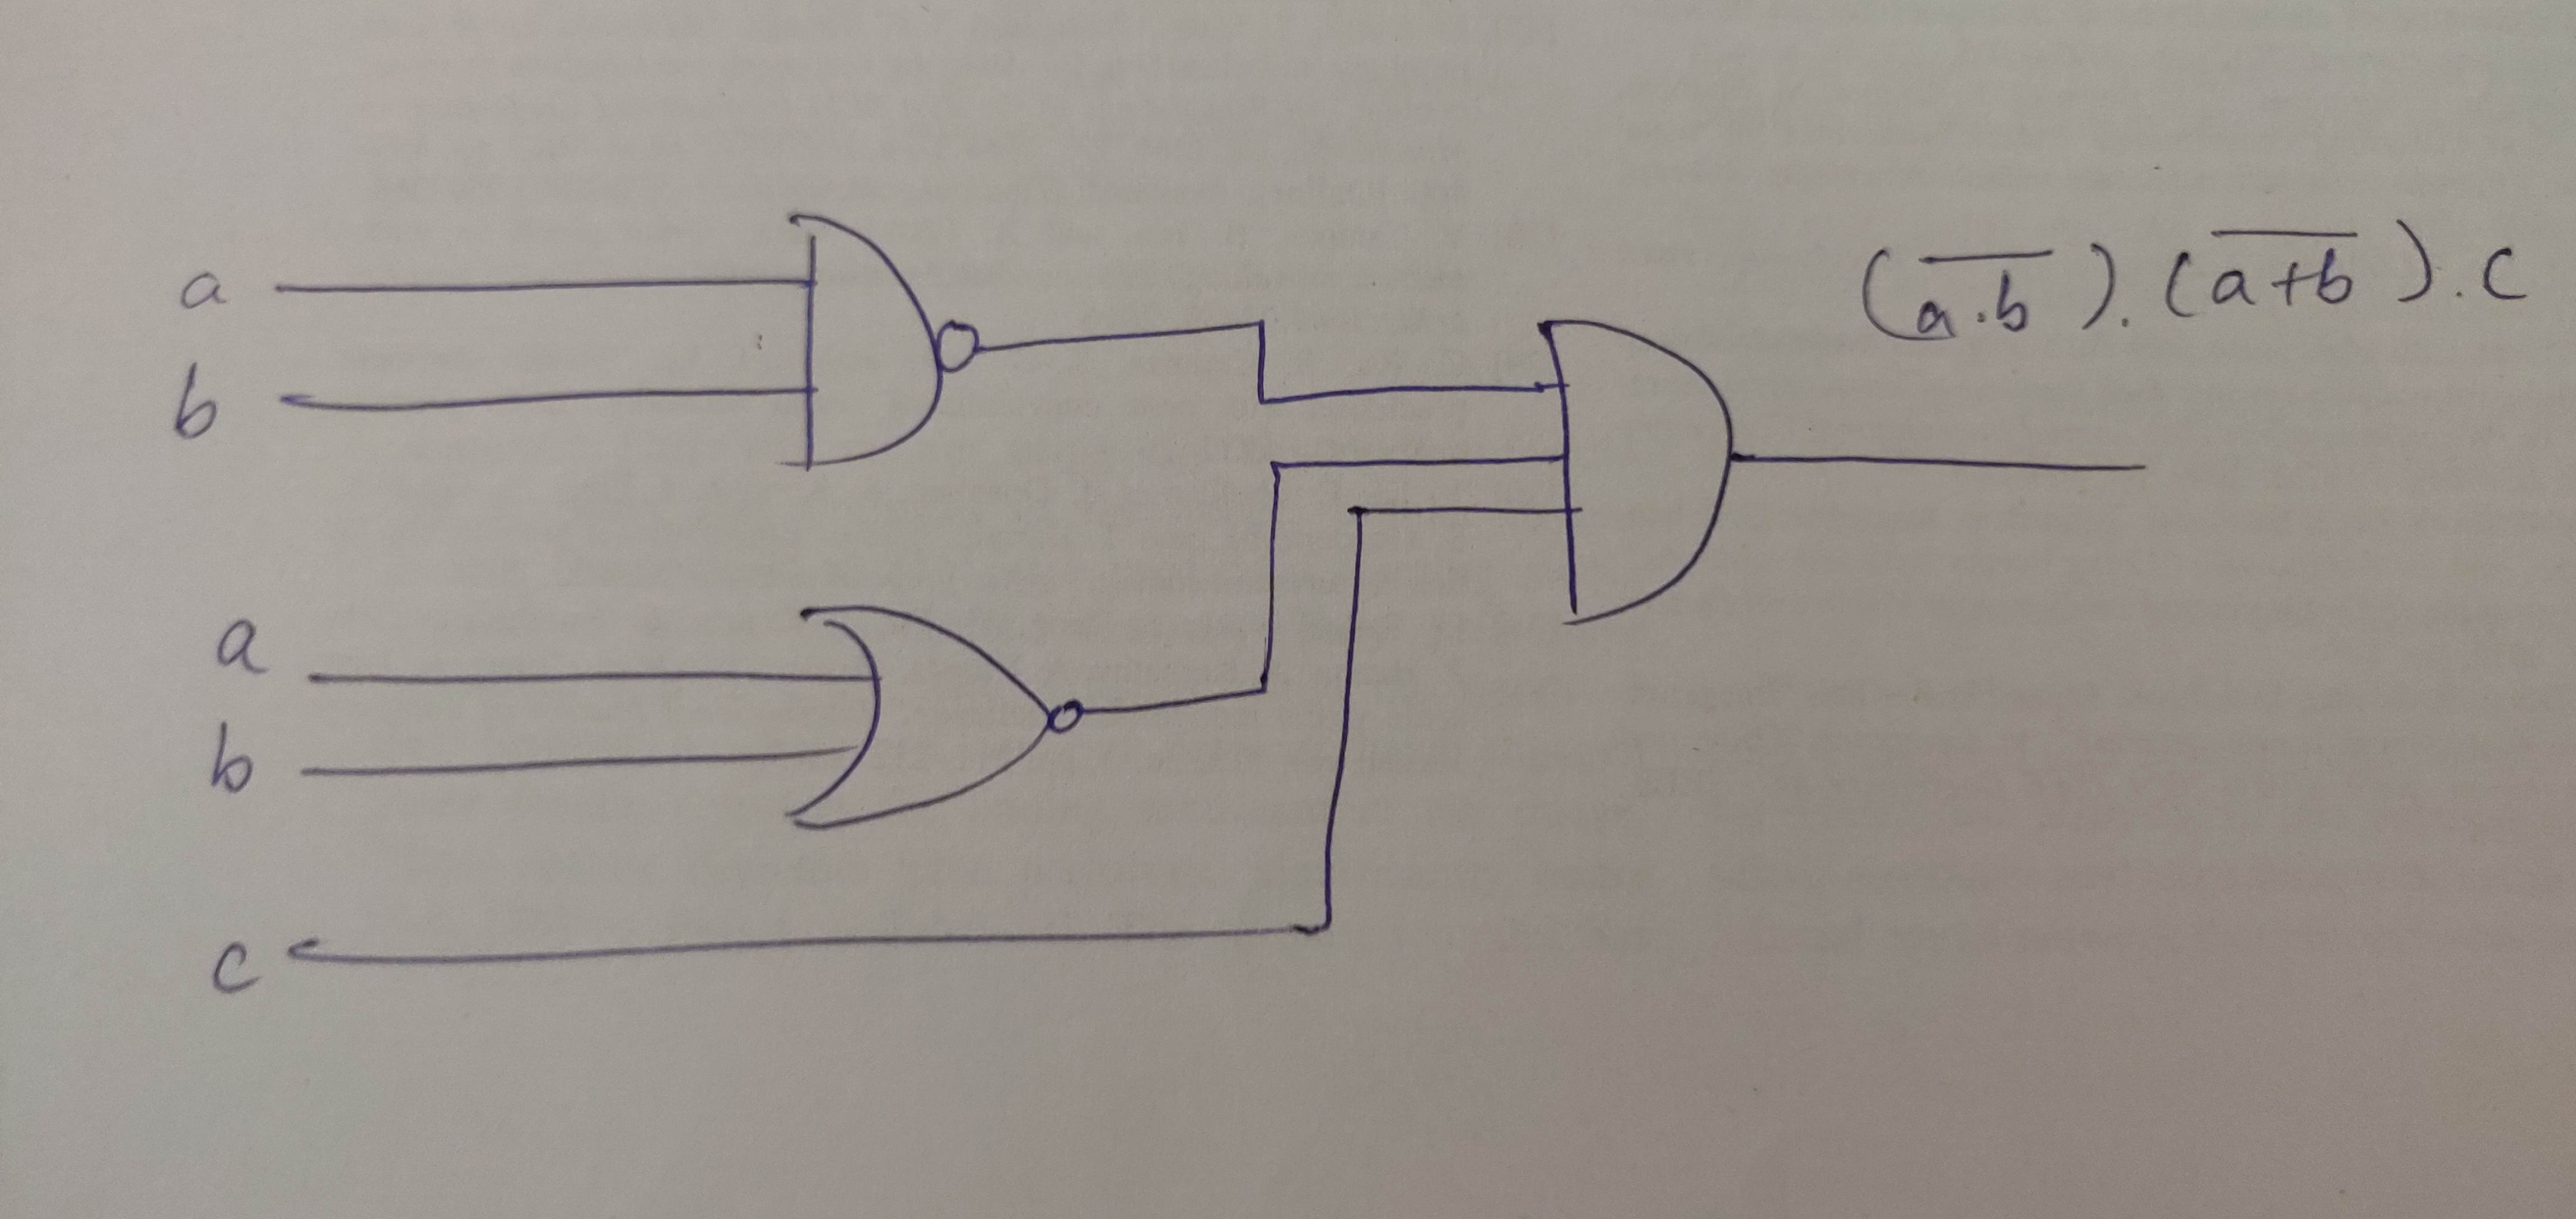and: (1439, 240, 1852, 682)
nand: (701, 161, 1046, 511)
nor: (754, 567, 1119, 849)
